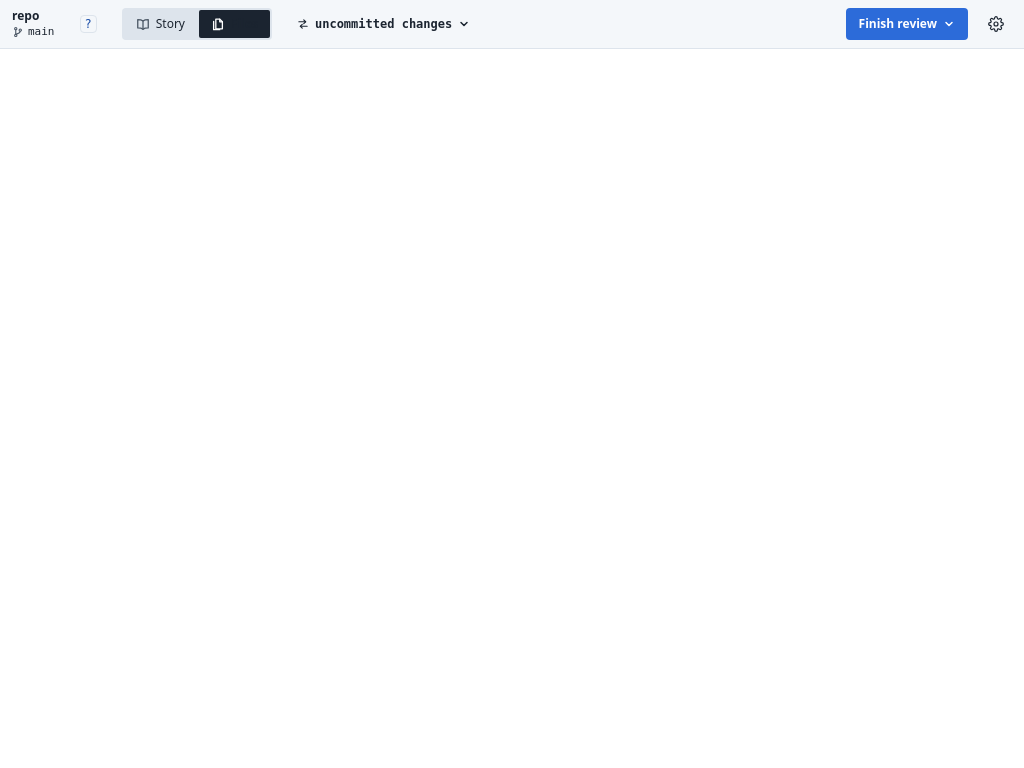
Test: how old a base is › is said in seconds when it was taken a moment ago
Click the button with test id "base-picker" at (384,24), box [284,8,483,40]
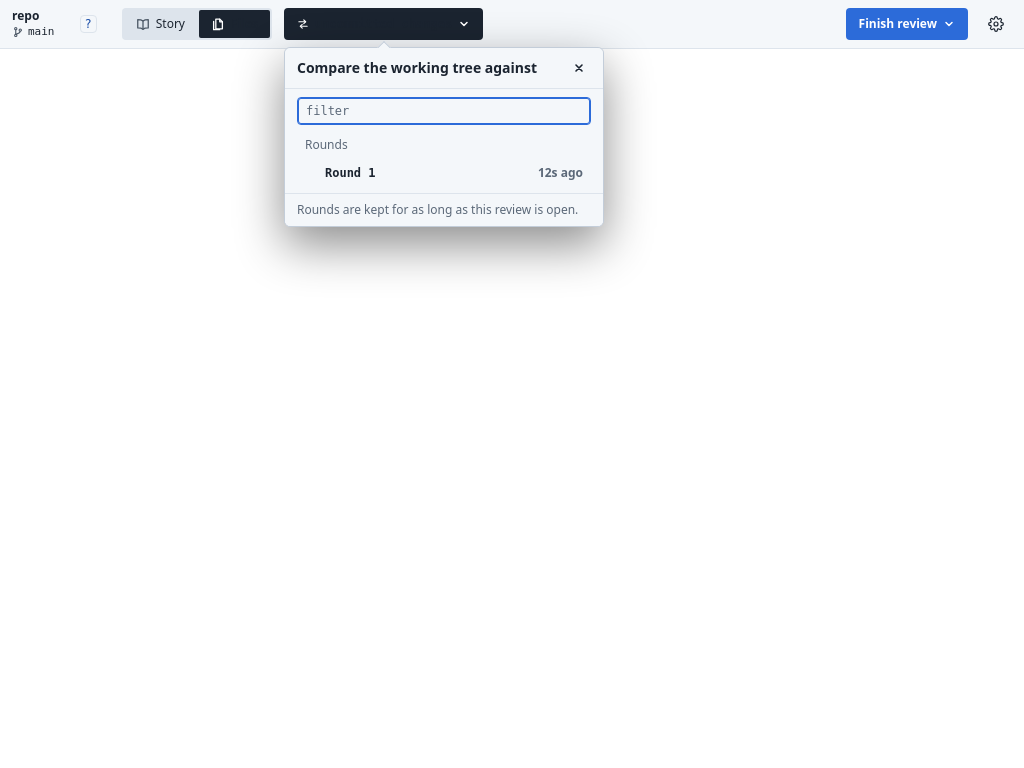
Expected: the text "12s ago" is shown, [538,165,583,181]
